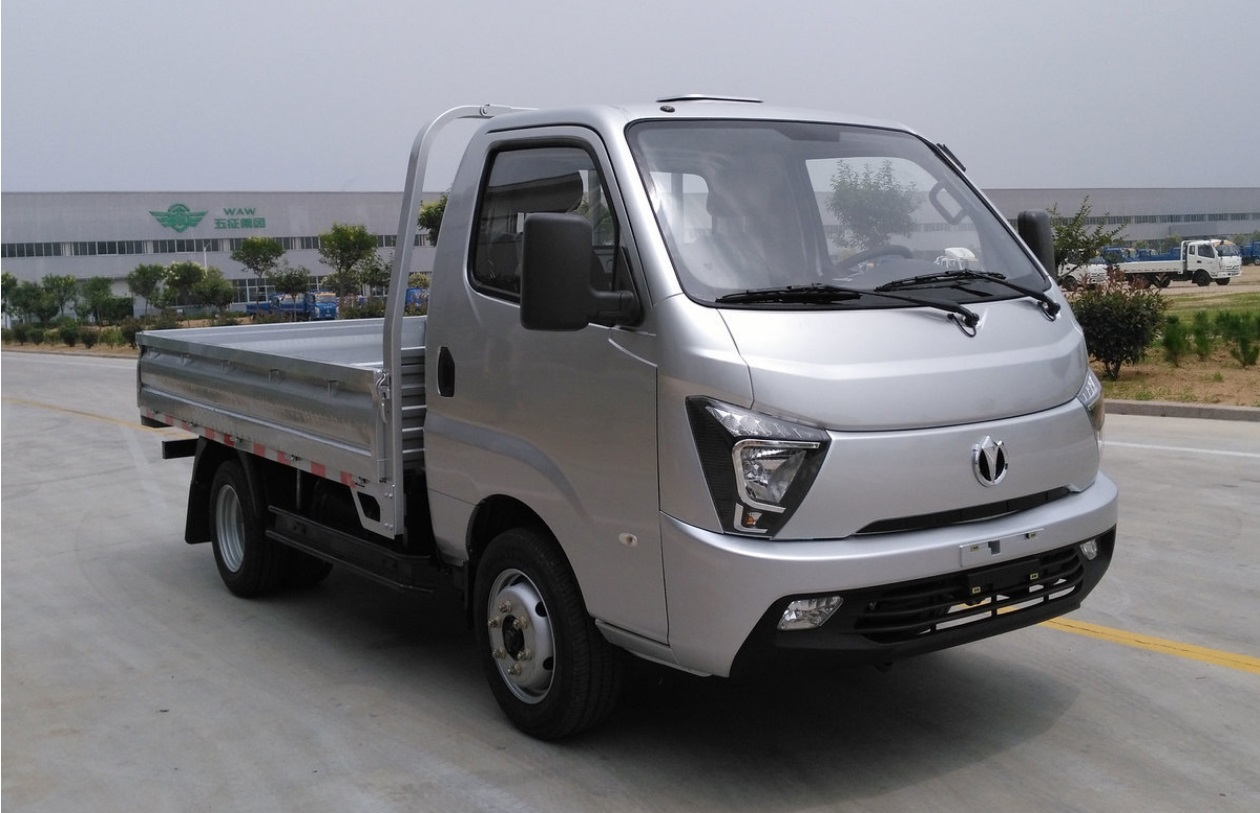truck: (135, 88, 1125, 754)
